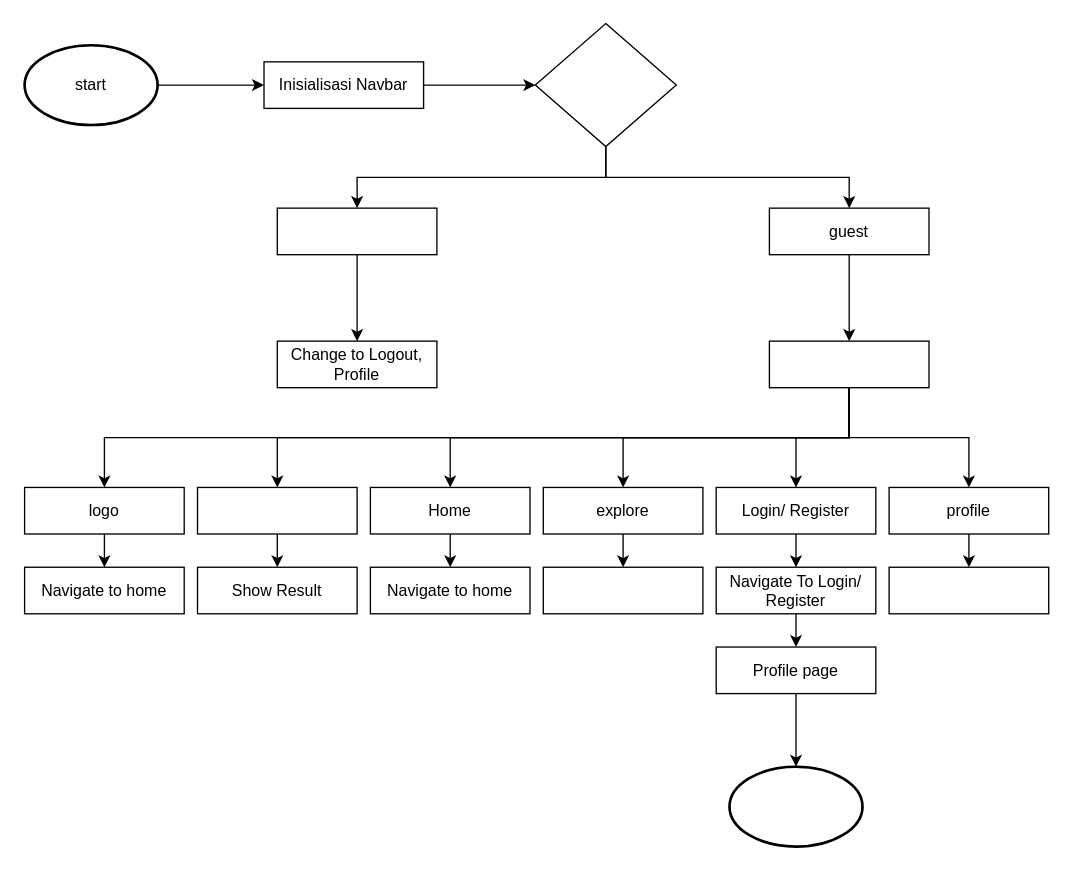
Some shapes in this 1072 by 871 pixel diagram are drawn without their labels. Here are the shapes that lost their labels. From the top down, the centre of each, then its label:
At (x=605, y=84): "Check login status".
At (x=356, y=231): "login".
At (x=848, y=364): "Show Login, Register".
At (x=276, y=510): "Search".
At (x=622, y=590): "Navigate to Explore".
At (x=968, y=590): "Navigate to Profile".
At (x=795, y=806): "End".
